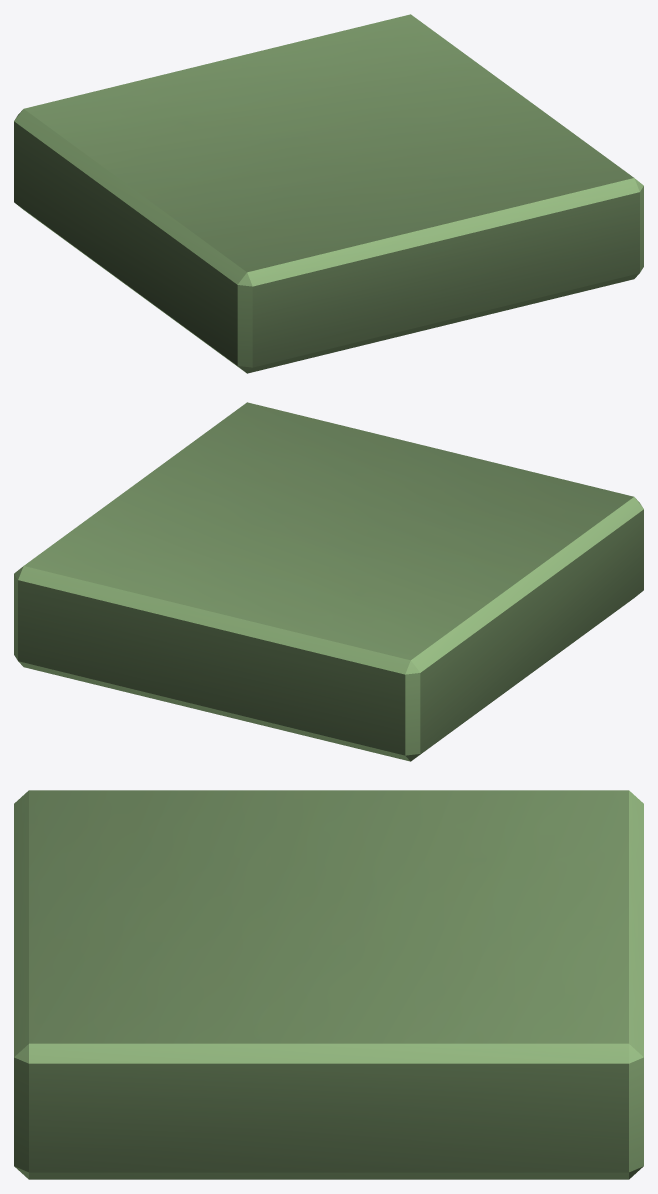
The model's file is Pillar_Top.fbx.
The picture shows the model from 3 angles, top to bottom: view 1: azimuth 30°, elevation 25°; view 2: azimuth 150°, elevation 25°; view 3: azimuth 270°, elevation 25°; orthographic projection. The views are drawn at different scales.
Parts seen in each view (by area): view 1: Pillar_Top; view 2: Pillar_Top; view 3: Pillar_Top.
Boxes of the visible parts, x1=… form: Pillar_Top: x1=14, y1=14, x2=643, y2=373; Pillar_Top: x1=14, y1=402, x2=643, y2=761; Pillar_Top: x1=14, y1=790, x2=643, y2=1179.
Size of the model in its own units: 143 by 33.98 by 143.
